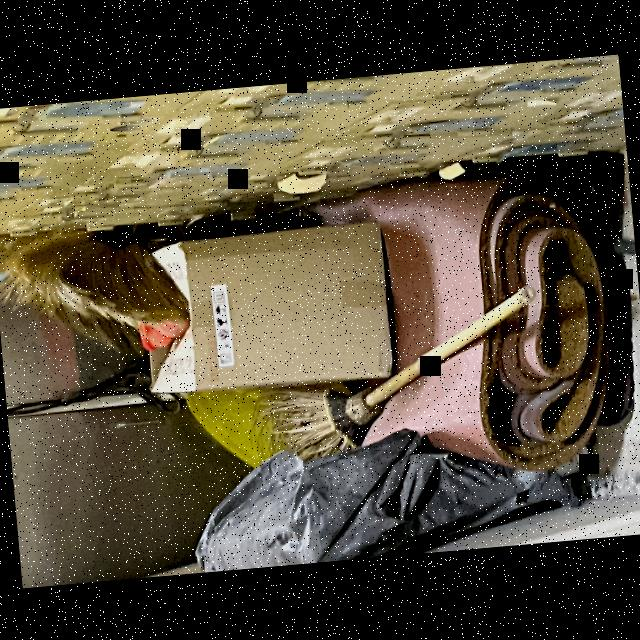cardboard_box: (124, 216, 403, 404)
